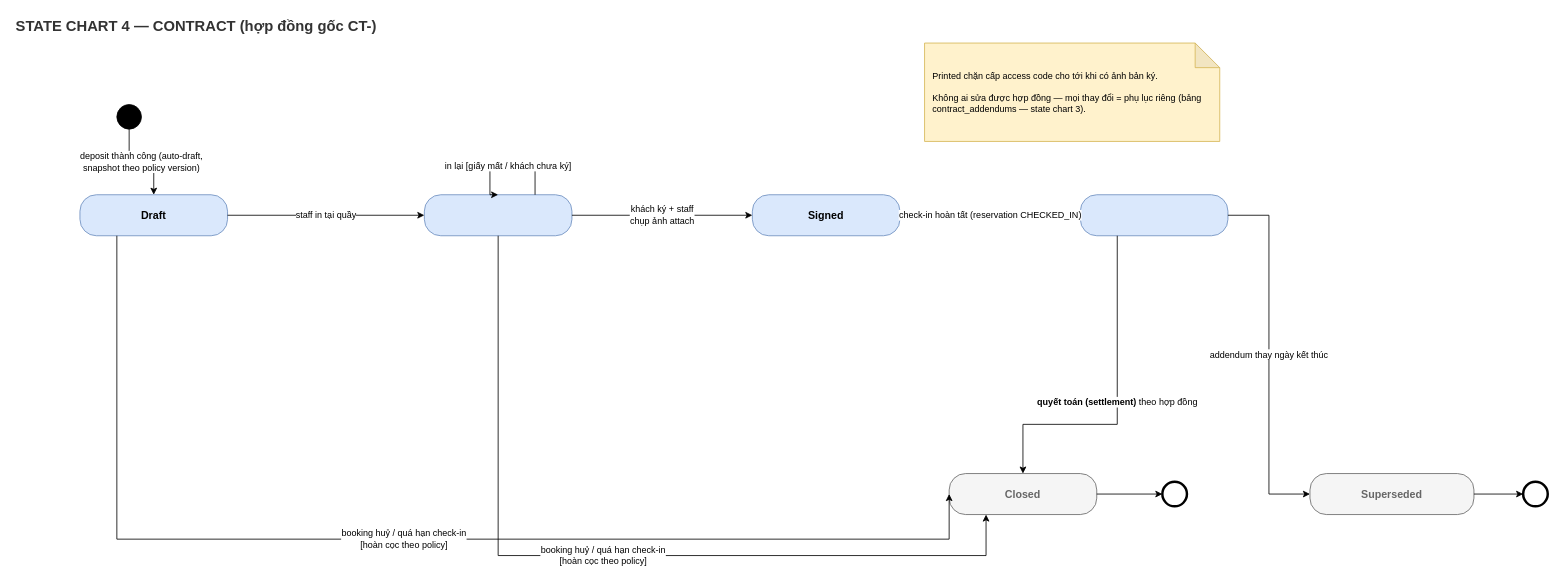
Some shapes in this 1563 by 580 pixel diagram are drawn without their labels. Here are the shapes that lost their labels. From the top down, the centre of each, then its label:
the point at 498,215: Printed
the point at 1154,215: Active
